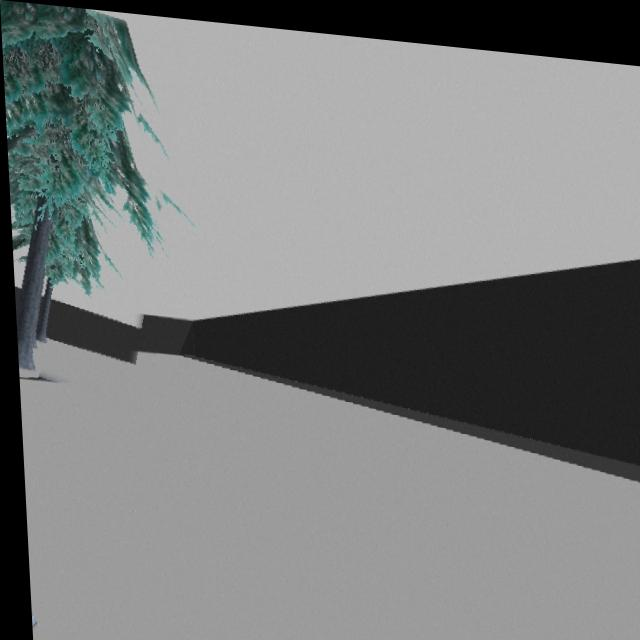tree: (7, 3, 152, 371)
